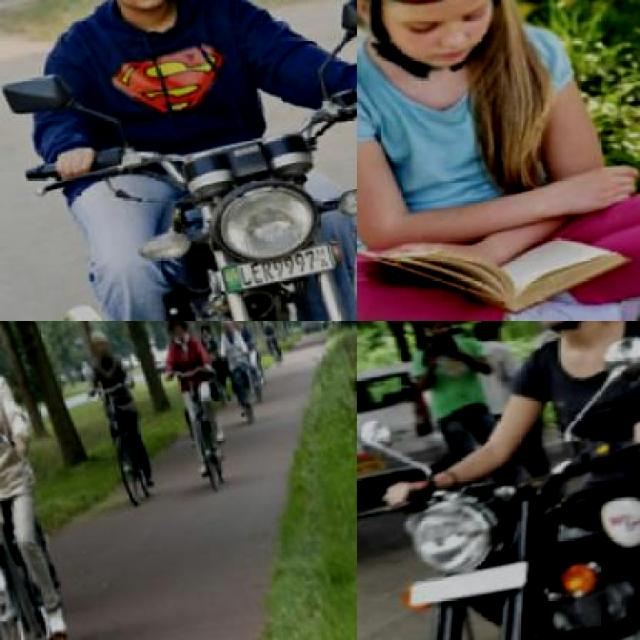With Helmet: (357, 0, 546, 103), (486, 320, 639, 345)
Without Helmet: (79, 327, 110, 370), (207, 320, 236, 349), (156, 320, 184, 346)
